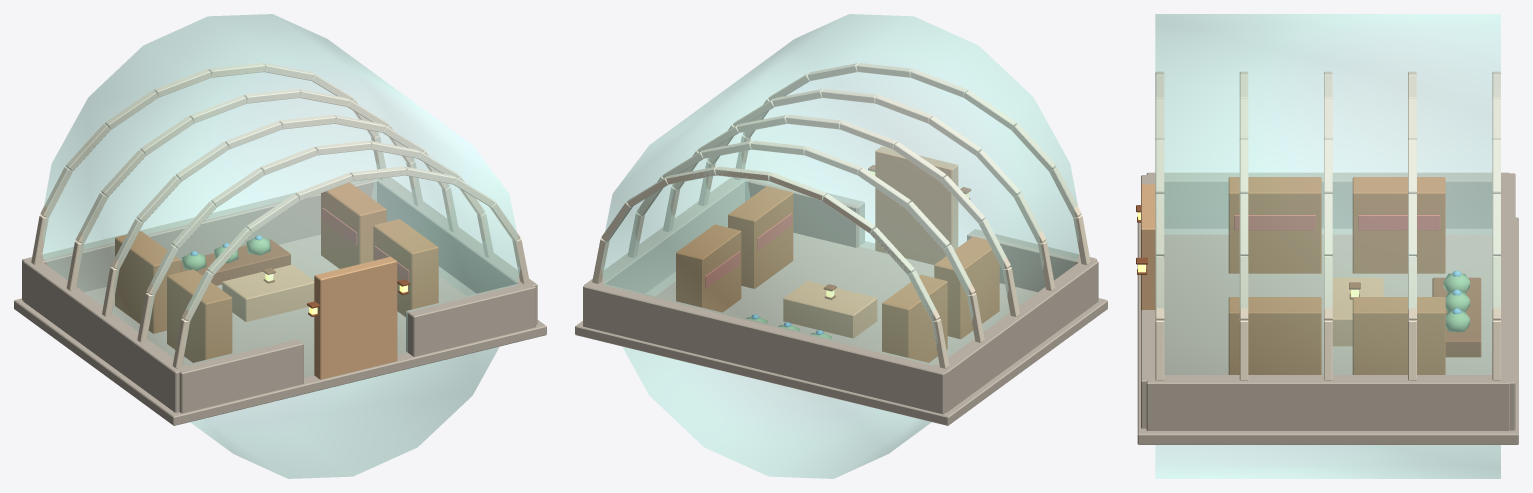
The picture shows the model from 3 angles, left to right: view 1: azimuth 30°, elevation 25°; view 2: azimuth 150°, elevation 25°; view 3: azimuth 270°, elevation 25°; orthographic projection. The views are drawn at different scales.
Parts seen in each view (by area): view 1: mint_glass, limestone, ivory_trim, warm_cedar, honey_wood, toasted_wood, sage_leaf, coral_red; view 2: mint_glass, limestone, ivory_trim, warm_cedar, honey_wood, coral_red; view 3: mint_glass, limestone, warm_cedar, ivory_trim, honey_wood, coral_red, toasted_wood, sage_leaf.
Part boxes in pixels (x1,y1,x2,y2): mint_glass: [42, 14, 520, 478]; limestone: [14, 177, 546, 425]; ivory_trim: [31, 63, 529, 368]; warm_cedar: [115, 182, 438, 362]; honey_wood: [222, 256, 397, 379]; toasted_wood: [180, 239, 410, 316]; sage_leaf: [182, 238, 270, 270]; coral_red: [322, 208, 409, 281]; mint_glass: [601, 14, 1079, 478]; limestone: [575, 177, 1107, 425]; ivory_trim: [592, 63, 1090, 368]; warm_cedar: [676, 186, 999, 362]; honey_wood: [783, 146, 958, 338]; coral_red: [705, 213, 792, 288]; mint_glass: [1155, 14, 1500, 478]; limestone: [1137, 172, 1518, 444]; warm_cedar: [1228, 177, 1445, 374]; ivory_trim: [1155, 71, 1500, 380]; honey_wood: [1141, 184, 1383, 346]; coral_red: [1234, 215, 1440, 230]; toasted_wood: [1136, 205, 1481, 357]; sage_leaf: [1443, 273, 1469, 331].
Size of the model in its own units: 11.6 by 10.5 by 8.64.
